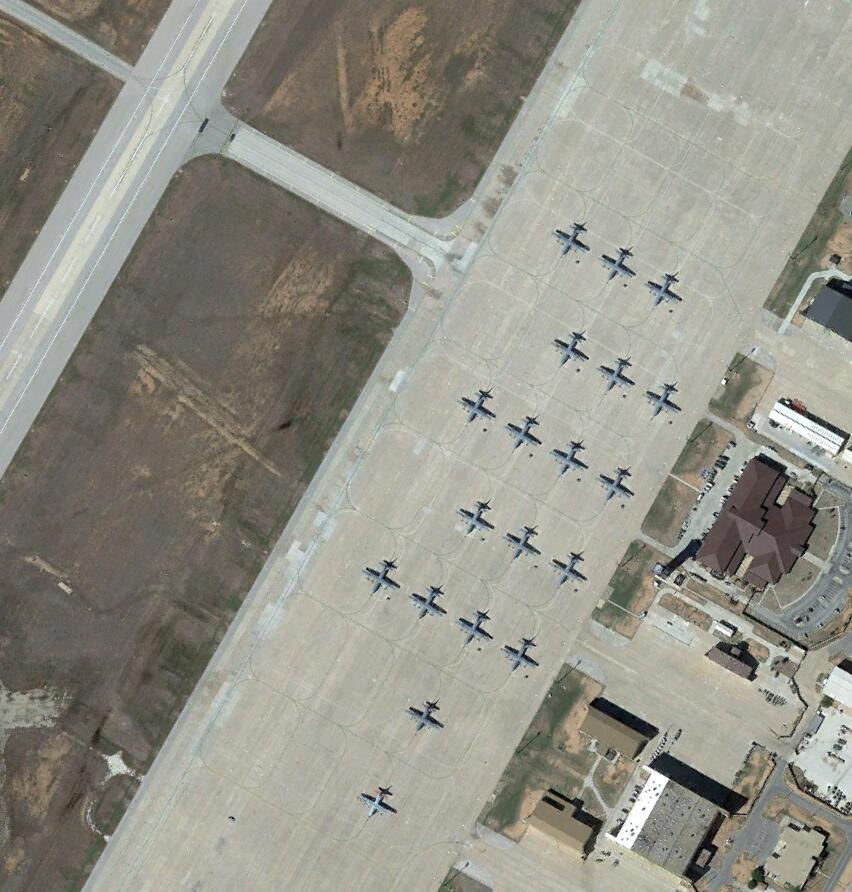A2: (500, 623, 542, 676), (595, 347, 638, 396), (409, 578, 452, 627), (594, 241, 639, 287), (359, 550, 404, 596), (547, 217, 593, 261), (357, 778, 402, 822), (547, 543, 590, 589), (403, 695, 449, 738), (642, 375, 684, 422), (548, 433, 592, 477), (549, 323, 591, 366), (646, 267, 687, 310), (502, 411, 542, 455), (595, 462, 635, 505), (456, 384, 497, 425), (457, 604, 495, 648), (504, 520, 541, 562), (458, 496, 495, 534)
